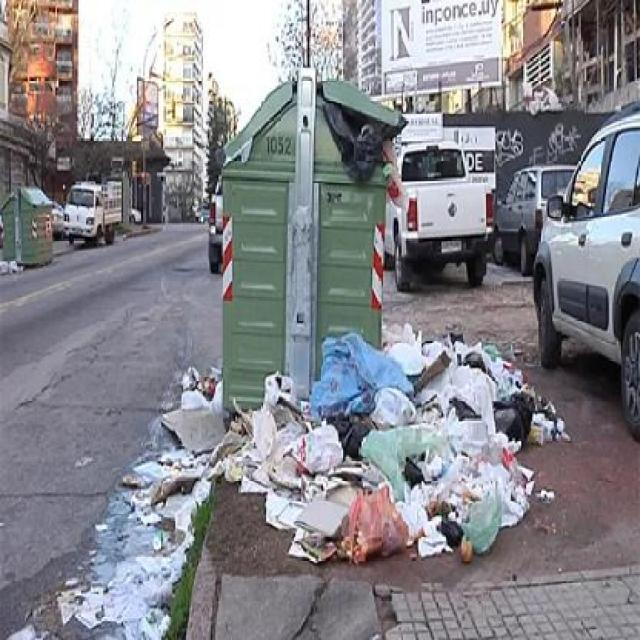garbage: (242, 323, 521, 559), (135, 360, 218, 638), (322, 80, 408, 208), (79, 525, 138, 639), (0, 191, 49, 270)
